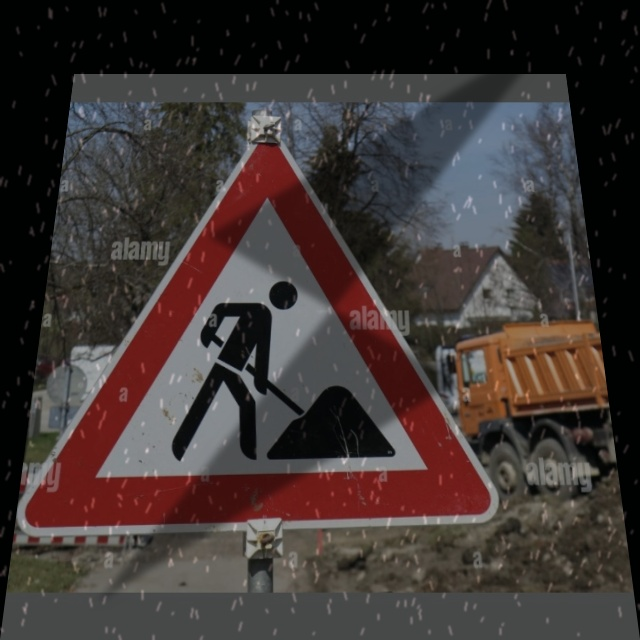Men_at_Work: (81, 148, 468, 512)
